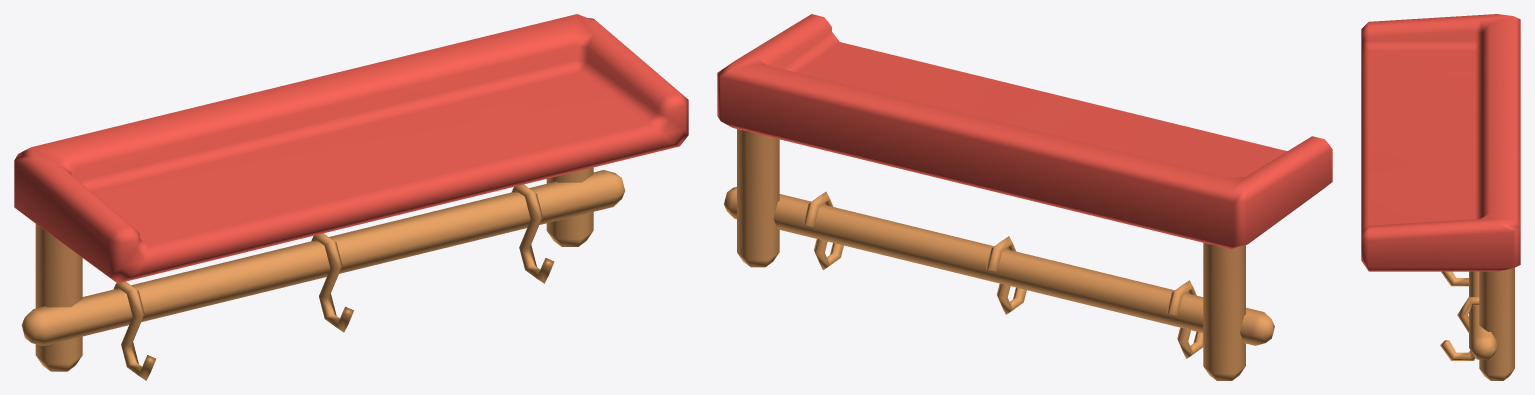
File: Homestead_cm_18.fbx
The picture shows the model from 3 angles, left to right: view 1: azimuth 30°, elevation 25°; view 2: azimuth 150°, elevation 25°; view 3: azimuth 270°, elevation 25°; orthographic projection. The views are drawn at different scales.
Visible parts, largest first — view 1: Homestead_cm_18; view 2: Homestead_cm_18; view 3: Homestead_cm_18.
Part boxes in pixels (bbox=[...]): Homestead_cm_18: bbox=[14, 14, 688, 380]; Homestead_cm_18: bbox=[717, 14, 1332, 380]; Homestead_cm_18: bbox=[1361, 14, 1520, 380].
Size of the model in its own units: 131 by 46.34 by 39.55.
